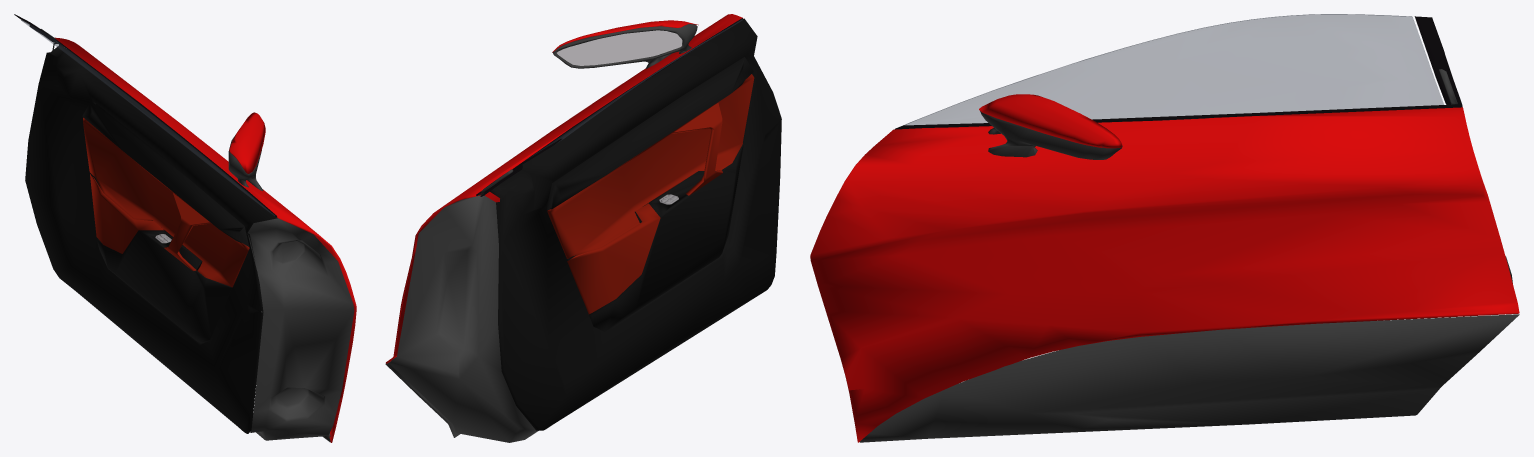
3 views of the same model, side by side, from view 1: azimuth 30°, elevation 25°; view 2: azimuth 150°, elevation 25°; view 3: azimuth 270°, elevation 25° (orthographic). The views are drawn at different scales.
Parts seen in each view (by area): view 1: InteriorDoorL01, InteriorDoorL04, BodyDoorLColor1, BodyDoorLWindow, BodyDoorLHandle01, BodyDoorLColor2; view 2: InteriorDoorL01, InteriorDoorL04, BodyDoorLColor1, BodyDoorLMirror, BodyDoorLColor2, BodyDoorLHandle01, BodyDoorLWindow; view 3: BodyDoorLColor1, BodyDoorLColor2, BodyDoorLWindow, BodyDoorLHandle01.
Part boxes in pixels (left/top/right/bottom): InteriorDoorL01: left=25, top=41, right=354, bottom=440; InteriorDoorL04: left=83, top=117, right=249, bottom=287; BodyDoorLColor1: left=55, top=37, right=356, bottom=442; BodyDoorLWindow: left=21, top=20, right=274, bottom=215; BodyDoorLHandle01: left=14, top=14, right=276, bottom=216; BodyDoorLColor2: left=41, top=29, right=330, bottom=442; InteriorDoorL01: left=390, top=18, right=781, bottom=442; InteriorDoorL04: left=547, top=74, right=754, bottom=314; BodyDoorLColor1: left=386, top=14, right=743, bottom=363; BodyDoorLMirror: left=557, top=30, right=682, bottom=65; BodyDoorLColor2: left=385, top=24, right=697, bottom=437; BodyDoorLHandle01: left=476, top=18, right=742, bottom=196; BodyDoorLWindow: left=530, top=19, right=742, bottom=157; BodyDoorLColor1: left=810, top=94, right=1519, bottom=442; BodyDoorLColor2: left=859, top=69, right=1519, bottom=442; BodyDoorLWindow: left=904, top=14, right=1443, bottom=125; BodyDoorLHandle01: left=895, top=16, right=1462, bottom=129.
Bounding box in the file's own units: 0.434 × 0.9592 × 1.67.
9 materials, 1 textured.
